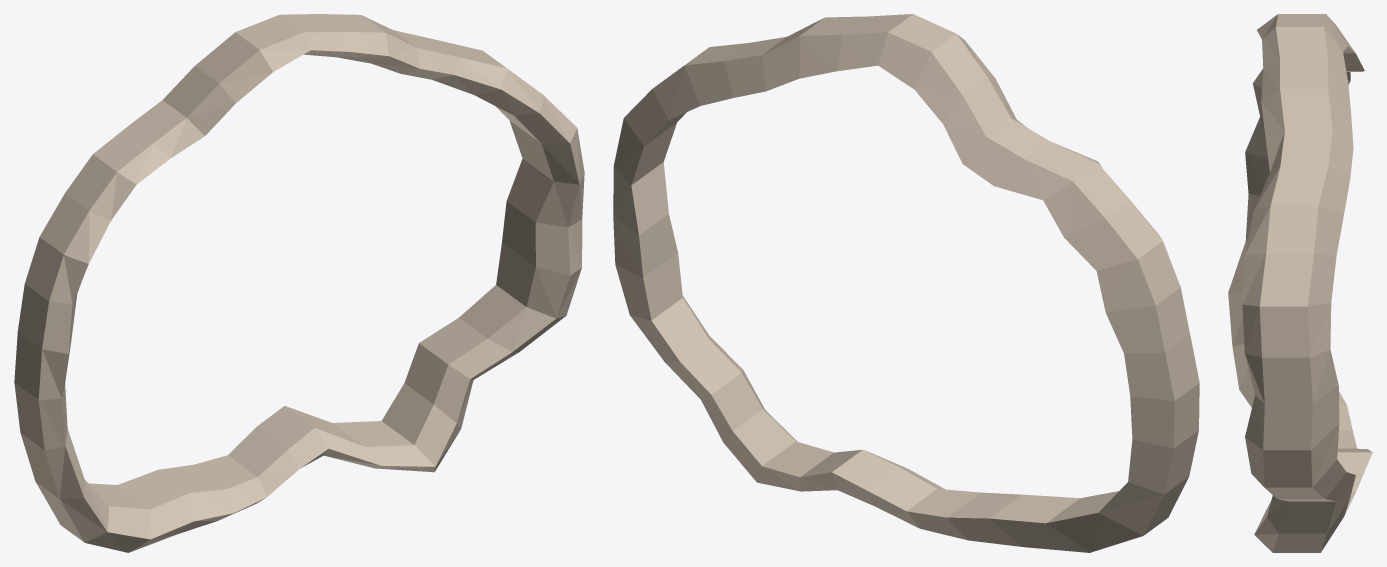
The model's file is Geode_Rim.fbx.
3 views of the same model, side by side, from view 1: azimuth 30°, elevation 25°; view 2: azimuth 150°, elevation 25°; view 3: azimuth 270°, elevation 25° (orthographic). The views are drawn at different scales.
Visible parts, largest first — view 1: Rim; view 2: Rim; view 3: Rim.
Part boxes in pixels (x1=…): Rim: x1=14, y1=14, x2=584, y2=552; Rim: x1=613, y1=14, x2=1199, y2=552; Rim: x1=1228, y1=14, x2=1372, y2=552.
Bounding box in the file's own units: 2.33 × 1.92 × 0.5429.
